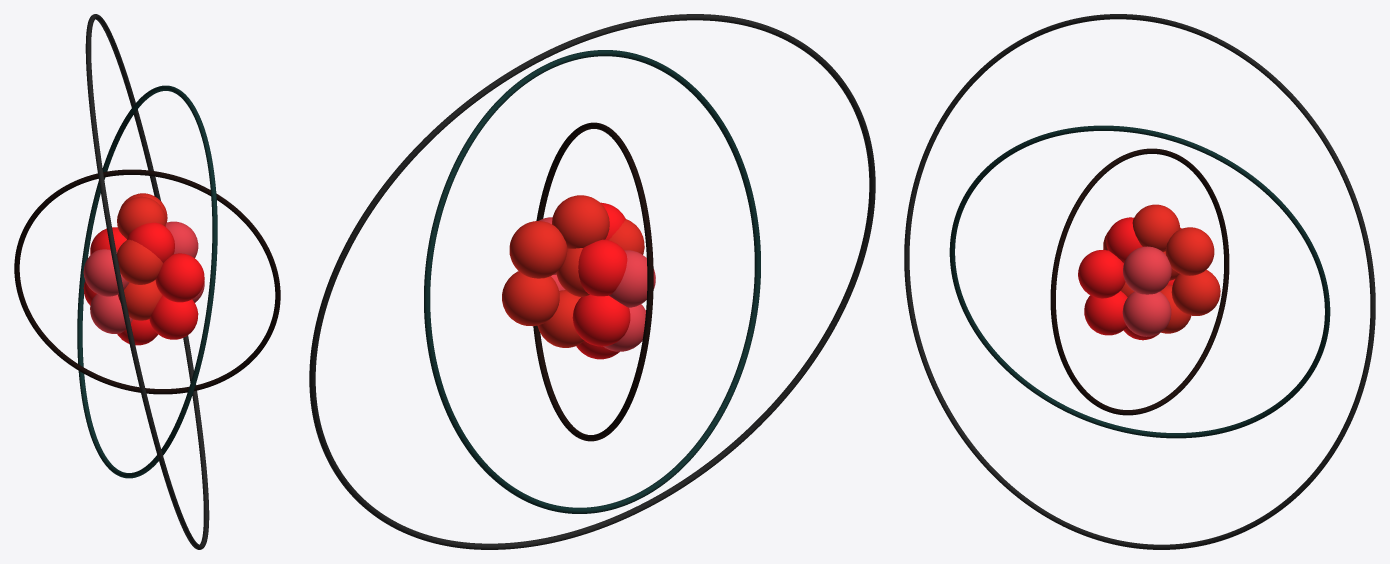
File: Atomo.fbx
3 renders of one model, left to right at view 1: azimuth 30°, elevation 25°; view 2: azimuth 150°, elevation 25°; view 3: azimuth 270°, elevation 25°, orthographic. The views are drawn at different scales.
Parts seen in each view (by area): view 1: Sphere.002, BézierCircle, BézierCircle.001, BézierCircle.002, Sphere.001, Sphere; view 2: BézierCircle, Sphere.001, BézierCircle.001, Sphere.002, BézierCircle.002, Sphere; view 3: BézierCircle, BézierCircle.001, Sphere.001, Sphere.002, BézierCircle.002, Sphere.
Part boxes in pixels (x1=…): Sphere.002: x1=83, y1=222, x2=204, y2=345; BézierCircle: x1=85, y1=14, x2=209, y2=549; BézierCircle.001: x1=77, y1=85, x2=217, y2=478; BézierCircle.002: x1=14, y1=169, x2=280, y2=394; Sphere.001: x1=117, y1=193, x2=167, y2=320; Sphere: x1=83, y1=221, x2=204, y2=333; BézierCircle: x1=309, y1=14, x2=875, y2=549; Sphere.001: x1=502, y1=195, x2=644, y2=347; BézierCircle.001: x1=424, y1=50, x2=760, y2=513; Sphere.002: x1=572, y1=202, x2=630, y2=359; BézierCircle.002: x1=533, y1=122, x2=653, y2=441; Sphere: x1=538, y1=217, x2=655, y2=351; BézierCircle: x1=904, y1=14, x2=1375, y2=549; BézierCircle.001: x1=949, y1=125, x2=1330, y2=438; Sphere.001: x1=1103, y1=204, x2=1220, y2=333; Sphere.002: x1=1078, y1=217, x2=1181, y2=340; BézierCircle.002: x1=1050, y1=148, x2=1229, y2=415; Sphere: x1=1122, y1=246, x2=1171, y2=336.
Bounding box in the file's own units: 111 × 197 × 176.
